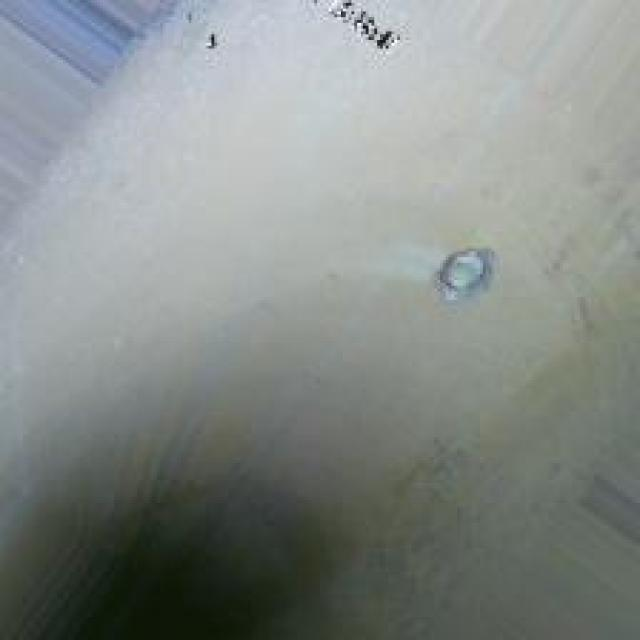ferrule: (417, 240, 494, 306)
